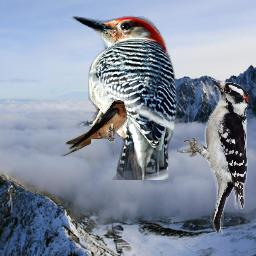Swallow: (58, 100, 127, 156)
Woodpecker: (66, 7, 183, 180), (177, 77, 251, 234)
